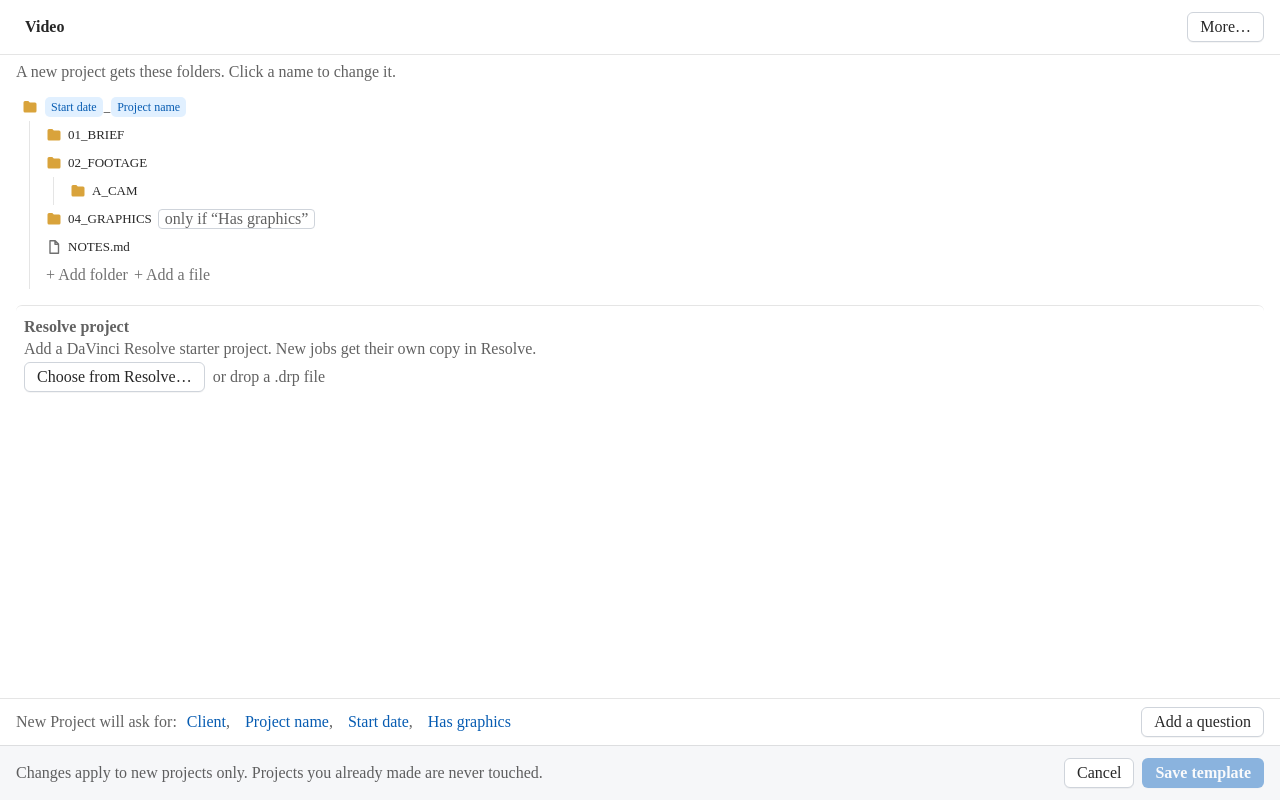
Test: TemplateEditor (one screen) › adds a file from the Add a file menu: Project info with the template's answers
This screenshot has width=1280, height=800.
Click the button "+ Add a file" at point(172, 275), box [134,266,210,284]
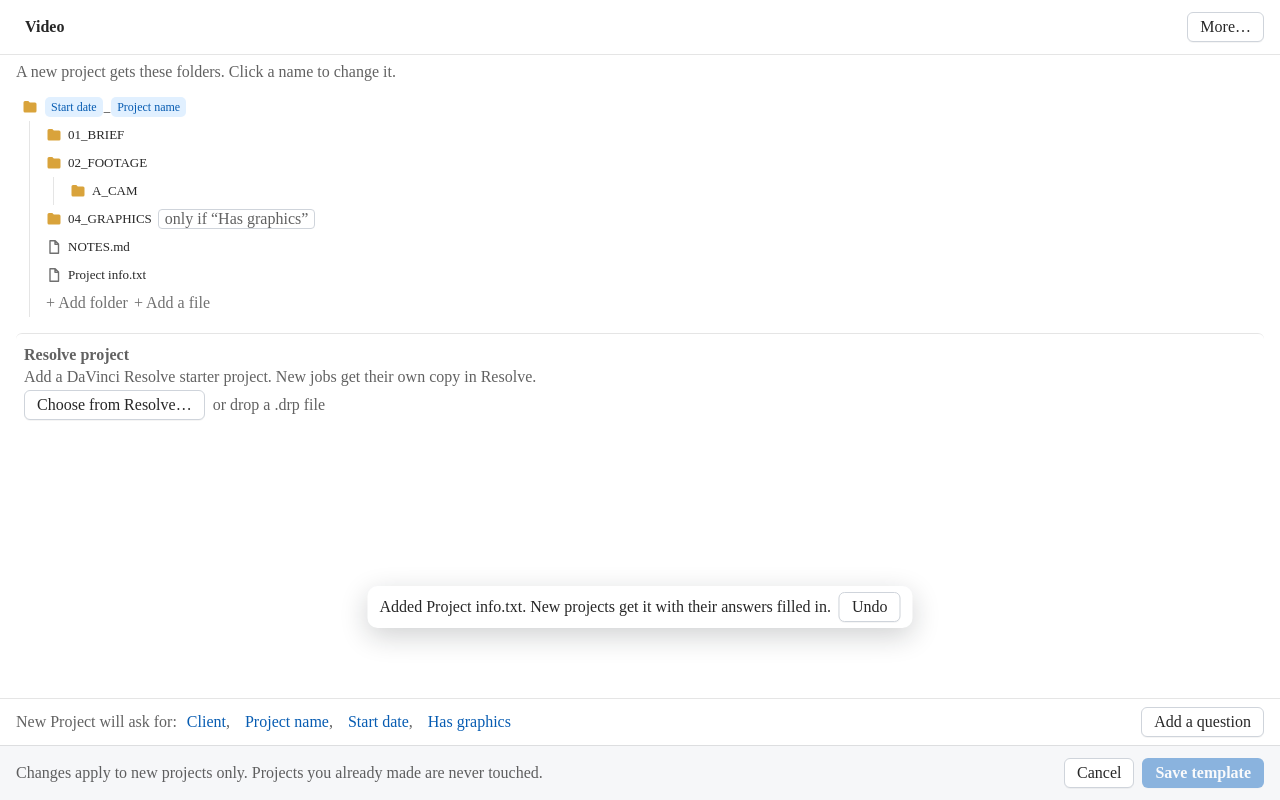
Now the text "Project info.txt" is shown, box [68,267,146,283]
